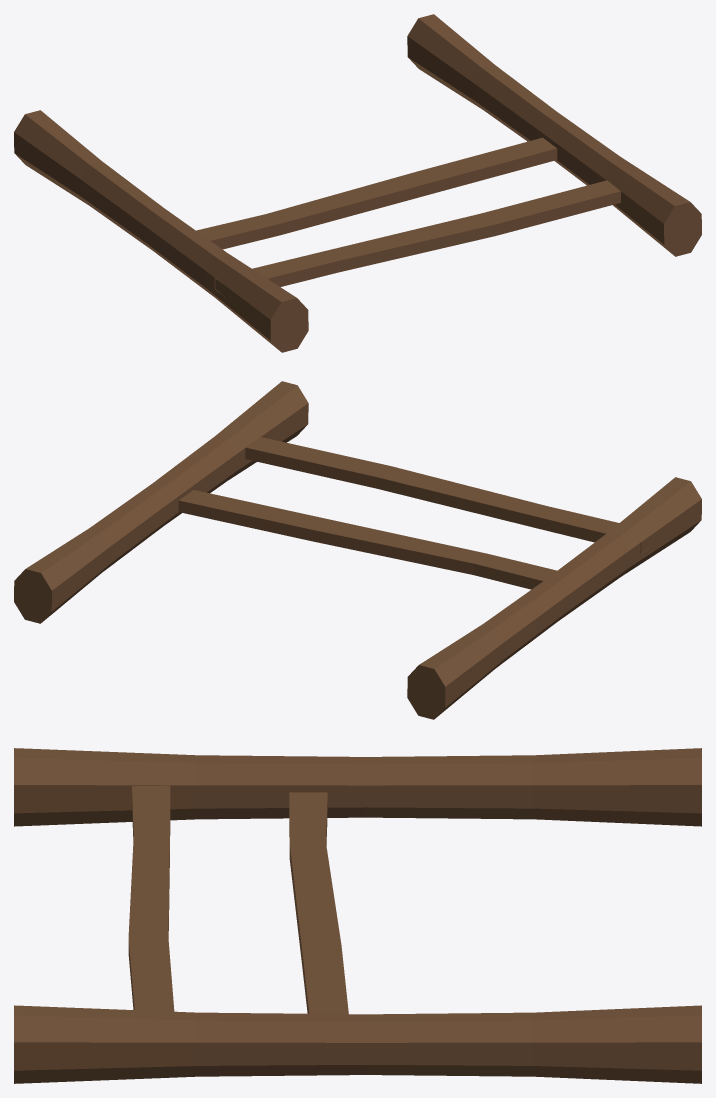
The model's file is Barrier_03b.fbx.
The picture shows the model from 3 angles, top to bottom: view 1: azimuth 30°, elevation 25°; view 2: azimuth 150°, elevation 25°; view 3: azimuth 270°, elevation 25°; orthographic projection. The views are drawn at different scales.
Visible parts, largest first — view 1: Barriere_3.002; view 2: Barriere_3.002; view 3: Barriere_3.002.
Boxes of the visible parts, x1,y1,x2,y2 form: Barriere_3.002: [14, 14, 701, 352]; Barriere_3.002: [14, 381, 701, 719]; Barriere_3.002: [14, 748, 701, 1083].
Bounding box in the file's own units: 97.16 × 11.02 × 100.
